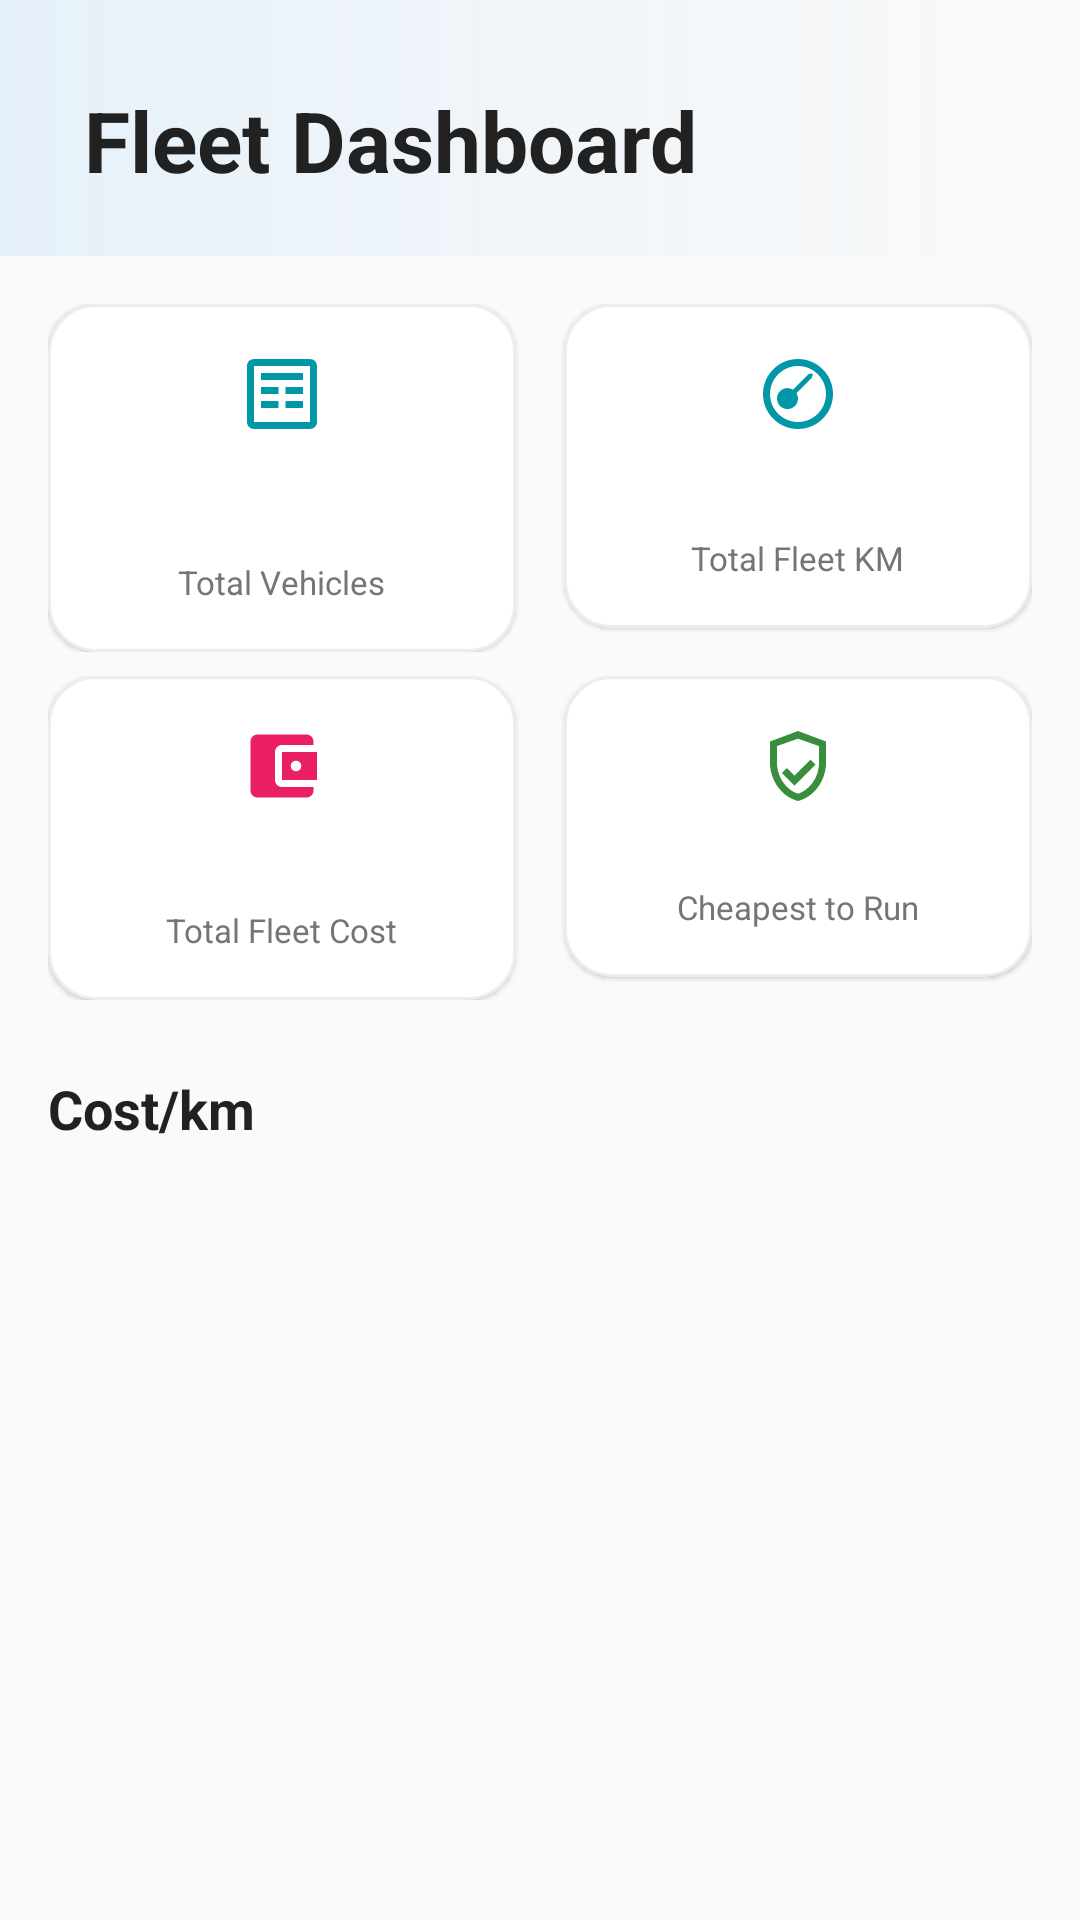

Icons on this 1080px×1920px Android screen, each with its box as detection(x1, y1, x2, y2):
health: detection(770, 731, 826, 801)
speed: detection(763, 359, 833, 429)
wallet: detection(250, 734, 317, 798)
